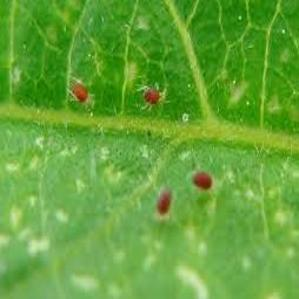spider mite: (62, 61, 109, 126), (120, 76, 174, 131), (141, 176, 182, 235), (181, 164, 221, 204)
